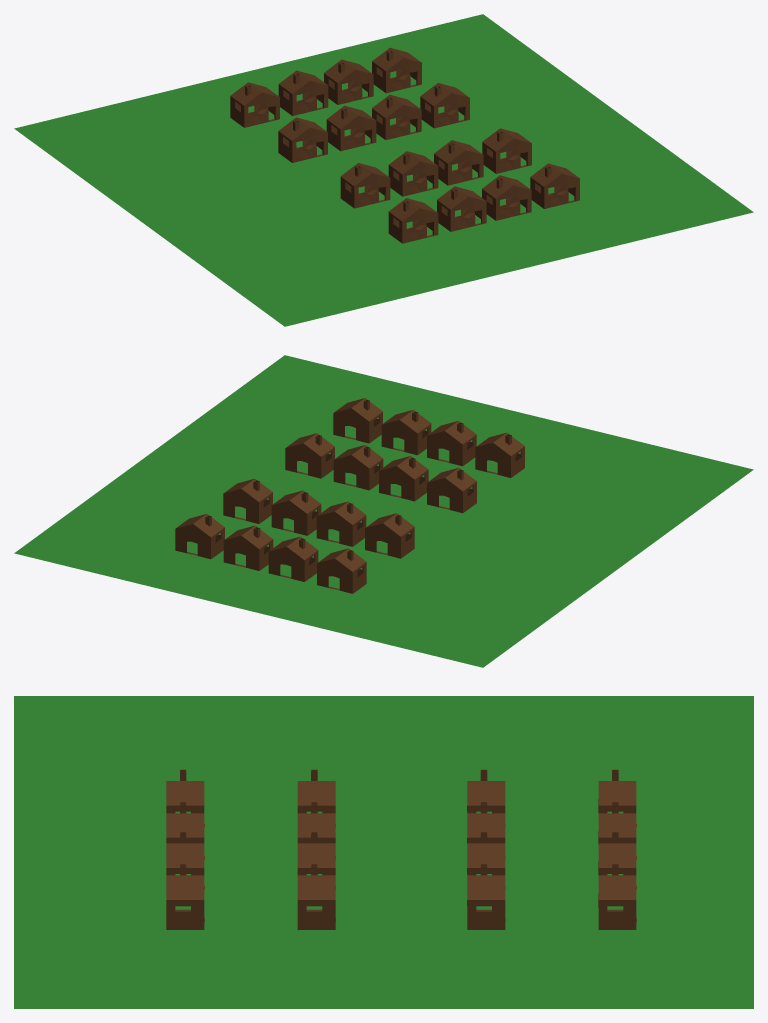
The model's file is Siedlung.obj.
The picture shows the model from 3 angles, top to bottom: view 1: azimuth 30°, elevation 25°; view 2: azimuth 150°, elevation 25°; view 3: azimuth 270°, elevation 25°; orthographic projection. The views are drawn at different scales.
Visible parts, largest first — view 1: Fläche, Cube.003, Cube, Cube.002, Cube.004, Cube.006, Cube.007, Cube.005, Cube.009, Cube.013, Cube.014, Cube.010 (+5 smaller); view 2: Fläche, Cube, Cube.004, Cube.006, Cube.005, Cube.003, Cube.007, Cube.010, Cube.001, Cube.009, Cube.002, Cube.013 (+5 smaller); view 3: Fläche, Cube.009, Cube.010, Cube.013, Cube.014, Cube.008, Cube.007, Cube.004, Cube, Cube.003, Cube.012, Cube.011 (+5 smaller).
Boxes of the visible parts, x1,y1,x2,y2 form: Fläche: [14, 14, 753, 326]; Cube.003: [340, 163, 390, 208]; Cube: [388, 198, 438, 243]; Cube.002: [388, 151, 438, 196]; Cube.004: [230, 82, 279, 127]; Cube.006: [326, 105, 376, 151]; Cube.007: [278, 117, 327, 162]; Cube.005: [278, 70, 328, 115]; Cube.009: [420, 83, 469, 128]; Cube.013: [482, 128, 531, 173]; Cube.014: [530, 163, 579, 208]; Cube.010: [372, 47, 421, 93]; Fläche: [14, 355, 753, 667]; Cube: [475, 432, 524, 477]; Cube.004: [317, 548, 366, 593]; Cube.006: [316, 501, 366, 546]; Cube.005: [268, 536, 318, 581]; Cube.003: [427, 467, 476, 513]; Cube.007: [365, 513, 414, 558]; Cube.010: [175, 514, 224, 559]; Cube.001: [427, 421, 476, 466]; Cube.009: [223, 478, 272, 523]; Cube.002: [379, 456, 428, 501]; Cube.013: [285, 433, 334, 478]; Fläche: [14, 696, 753, 1008]; Cube.009: [467, 864, 505, 929]; Cube.010: [598, 864, 636, 929]; Cube.013: [297, 864, 335, 929]; Cube.014: [166, 864, 204, 929]; Cube.008: [467, 832, 505, 889]; Cube.007: [467, 769, 505, 826]; Cube.004: [598, 769, 636, 827]; Cube: [166, 769, 204, 827]; Cube.003: [297, 769, 335, 826]; Cube.012: [297, 832, 335, 889]; Cube.011: [598, 832, 636, 889].
Bounding box in the file's own units: 138 × 10.27 × 138.
